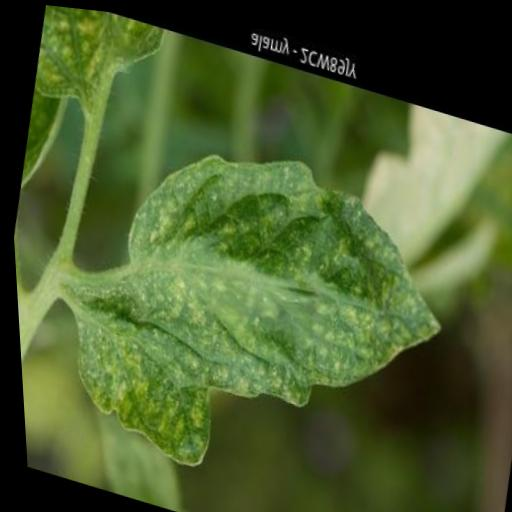Spider Mites: (44, 90, 472, 512)
